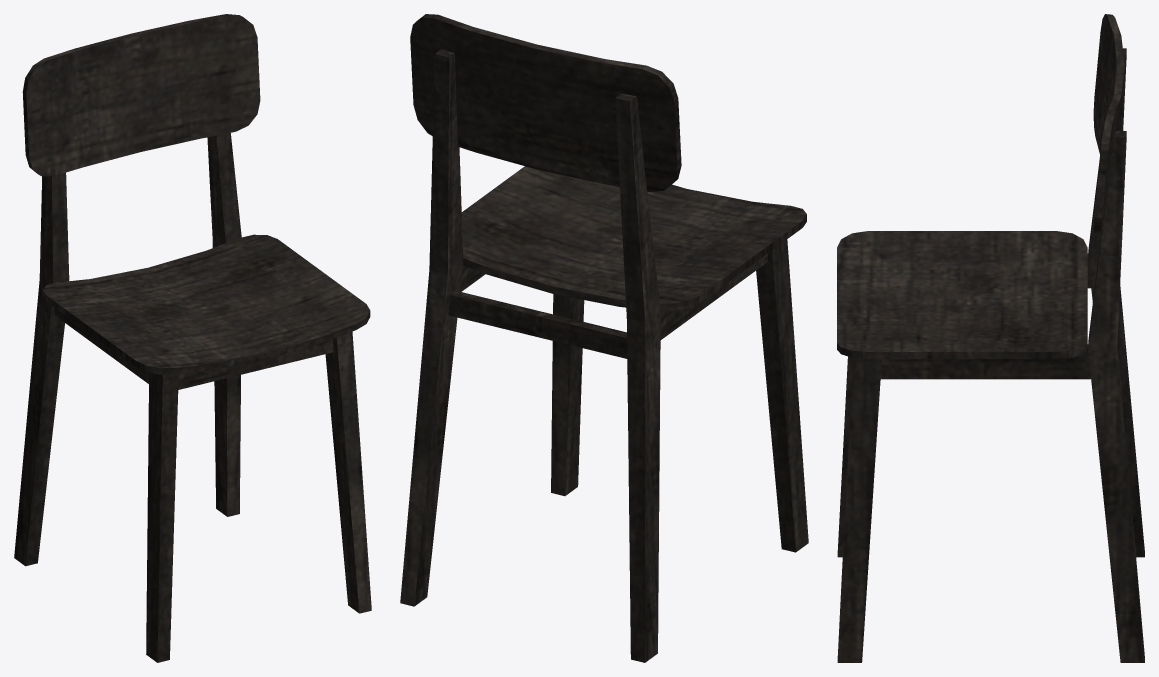
Rendered from chair_mp_3.obj.
The picture shows the model from 3 angles, left to right: view 1: azimuth 30°, elevation 25°; view 2: azimuth 150°, elevation 25°; view 3: azimuth 270°, elevation 25°; orthographic projection. The views are drawn at different scales.
Visible parts, largest first — view 1: chair_mp_3; view 2: chair_mp_3; view 3: chair_mp_3.
Part boxes in pixels (<box>): chair_mp_3: <box>14,14,371,662</box>; chair_mp_3: <box>400,14,808,662</box>; chair_mp_3: <box>837,14,1144,662</box>.
Size of the model in its own units: 0.4763 by 0.9967 by 0.5126.
